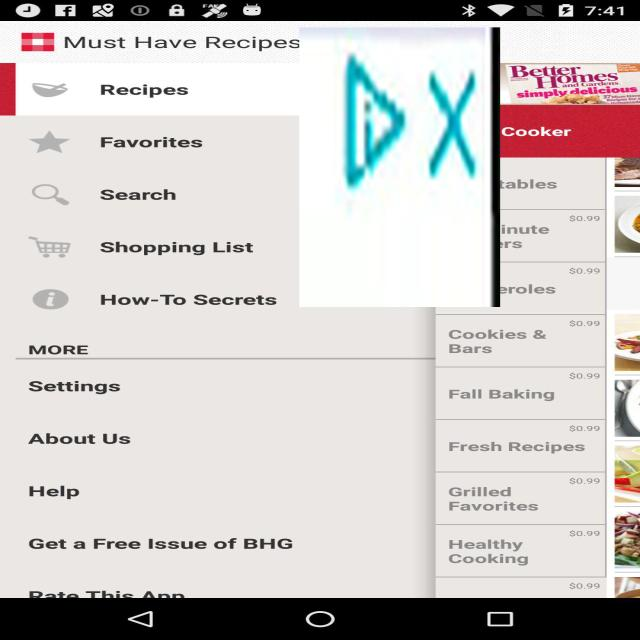sneaking: (299, 27, 500, 307)
